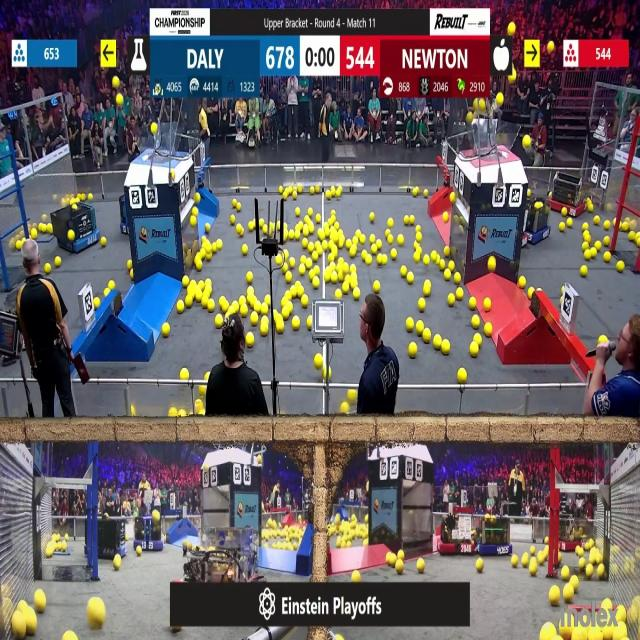ball_airborne: (200, 111, 208, 128), (496, 94, 504, 106), (523, 136, 531, 148), (472, 100, 480, 112), (479, 100, 486, 112), (112, 76, 119, 88), (507, 24, 514, 36), (466, 111, 473, 122), (150, 124, 156, 135), (116, 95, 122, 106), (547, 41, 553, 52)
ball_ground: (89, 600, 106, 628), (27, 614, 38, 636), (35, 592, 46, 613), (550, 587, 562, 606), (540, 625, 553, 639), (563, 586, 573, 602), (458, 367, 467, 382), (488, 258, 496, 274), (348, 389, 357, 402), (443, 341, 451, 355), (410, 344, 418, 358), (113, 556, 121, 570), (315, 354, 323, 368), (469, 344, 477, 358), (246, 334, 254, 348), (433, 337, 441, 351), (395, 560, 403, 574), (352, 570, 361, 582), (418, 560, 426, 573), (562, 567, 570, 580), (407, 318, 415, 331), (291, 317, 299, 330), (587, 564, 595, 577), (262, 326, 270, 339), (529, 562, 537, 575), (596, 564, 604, 577), (220, 301, 228, 314), (424, 282, 431, 296), (423, 328, 430, 342), (618, 262, 626, 274), (471, 316, 479, 328), (454, 273, 462, 285), (180, 367, 188, 379), (302, 295, 310, 307), (250, 313, 258, 325), (387, 554, 395, 566), (512, 555, 520, 567), (484, 300, 492, 312), (208, 300, 216, 312), (240, 306, 248, 318), (416, 321, 424, 333), (64, 632, 76, 640), (537, 554, 545, 566), (308, 242, 316, 254), (570, 575, 578, 587), (164, 323, 171, 336), (485, 323, 492, 336), (277, 321, 284, 334), (196, 290, 203, 303), (352, 288, 360, 299), (232, 303, 240, 314), (177, 302, 184, 314), (215, 315, 222, 327), (419, 299, 426, 311), (374, 281, 381, 293), (468, 297, 475, 309), (283, 308, 290, 320), (475, 560, 482, 572), (330, 272, 337, 284), (396, 552, 404, 562), (170, 409, 178, 419), (308, 317, 314, 330), (519, 277, 526, 288), (246, 273, 253, 284), (456, 288, 463, 299), (324, 272, 331, 283), (579, 267, 586, 278), (343, 283, 350, 294), (440, 261, 447, 272), (185, 295, 192, 306), (342, 404, 349, 415), (204, 286, 211, 297), (44, 548, 51, 559), (449, 293, 455, 305), (195, 260, 201, 272), (408, 273, 414, 285), (289, 256, 295, 268), (523, 555, 529, 567), (350, 279, 358, 288), (326, 226, 332, 238), (276, 254, 283, 264), (445, 271, 452, 281), (423, 254, 430, 264), (31, 230, 38, 240), (474, 335, 481, 345), (108, 280, 115, 290), (364, 254, 371, 264), (414, 252, 421, 262), (247, 294, 254, 304), (339, 239, 346, 249), (321, 241, 328, 251), (290, 287, 297, 297), (274, 310, 281, 320), (431, 250, 438, 260), (315, 241, 322, 251), (330, 246, 337, 256), (56, 256, 62, 267), (604, 251, 610, 262), (314, 278, 320, 289), (286, 273, 292, 284), (318, 230, 324, 241), (253, 303, 259, 314), (307, 261, 313, 272), (603, 238, 610, 247), (247, 286, 254, 295), (240, 295, 247, 304), (629, 233, 636, 242), (40, 223, 47, 232), (242, 245, 248, 255), (44, 265, 50, 275), (445, 247, 451, 257), (182, 277, 188, 287), (136, 545, 142, 555), (596, 241, 602, 251), (449, 262, 455, 272), (337, 289, 343, 299), (391, 250, 397, 260), (584, 232, 590, 242), (368, 212, 374, 222), (298, 266, 304, 276), (578, 558, 584, 568), (94, 297, 100, 307), (378, 254, 384, 264), (370, 245, 376, 255), (190, 216, 196, 226), (263, 306, 269, 316), (296, 286, 302, 296), (248, 220, 254, 230), (400, 268, 406, 278), (585, 250, 591, 260), (397, 236, 403, 246), (216, 240, 222, 250), (303, 240, 309, 250), (591, 248, 597, 258), (338, 272, 344, 282), (283, 232, 289, 242), (346, 239, 352, 249), (131, 408, 137, 418), (258, 218, 264, 228), (189, 279, 195, 289), (327, 192, 333, 202), (557, 553, 563, 563), (599, 336, 606, 344), (282, 266, 289, 274), (528, 287, 533, 298), (322, 367, 327, 378), (530, 545, 536, 554), (101, 238, 107, 247), (350, 248, 356, 257), (299, 255, 305, 264), (294, 208, 300, 217), (566, 218, 572, 227), (604, 220, 610, 229), (237, 223, 243, 232), (312, 252, 318, 261), (388, 236, 394, 245), (293, 232, 299, 241), (589, 204, 595, 213), (231, 215, 237, 224), (199, 280, 205, 289), (304, 229, 310, 238), (15, 241, 21, 250), (200, 386, 206, 395), (359, 236, 365, 245), (337, 264, 343, 273), (46, 224, 52, 233), (576, 546, 582, 555), (445, 212, 450, 222), (451, 192, 456, 202), (196, 196, 201, 206), (179, 411, 186, 418), (388, 218, 394, 226), (594, 216, 600, 224), (316, 214, 322, 222), (560, 222, 566, 230), (584, 242, 590, 250), (403, 216, 409, 224), (368, 236, 374, 244), (416, 234, 422, 242), (350, 266, 356, 274), (309, 270, 315, 278), (282, 191, 288, 199), (291, 190, 297, 198), (276, 221, 282, 229), (282, 221, 288, 229), (206, 223, 212, 231), (561, 208, 567, 216), (191, 208, 197, 216), (352, 238, 358, 246), (202, 250, 208, 258), (294, 280, 300, 288), (267, 294, 272, 303), (128, 262, 133, 271), (282, 296, 287, 305), (207, 252, 212, 261), (344, 265, 349, 274), (411, 215, 416, 224), (264, 224, 269, 233), (337, 188, 342, 197), (611, 219, 616, 228), (329, 265, 335, 272), (413, 188, 419, 195), (205, 280, 212, 286), (309, 208, 314, 216), (130, 272, 135, 280), (328, 253, 333, 261), (584, 222, 589, 230), (104, 288, 109, 296), (378, 241, 383, 249), (284, 250, 289, 258), (288, 232, 293, 240), (305, 215, 310, 223), (205, 373, 210, 381), (527, 188, 532, 196), (234, 201, 238, 210), (327, 367, 331, 376), (416, 224, 421, 231), (363, 538, 368, 545), (328, 216, 333, 223), (339, 256, 344, 263), (279, 186, 284, 193), (424, 188, 428, 196), (90, 192, 94, 200), (364, 516, 368, 524), (543, 536, 547, 543), (356, 231, 360, 238), (330, 210, 334, 216)
goal: (464, 122, 521, 160), (130, 127, 190, 160)
robot_blue: (54, 194, 100, 254), (0, 304, 23, 369), (476, 515, 512, 556), (522, 197, 552, 245), (131, 513, 165, 552), (98, 514, 128, 558)
robot_red: (550, 166, 588, 214), (439, 513, 480, 555), (559, 514, 589, 550)
